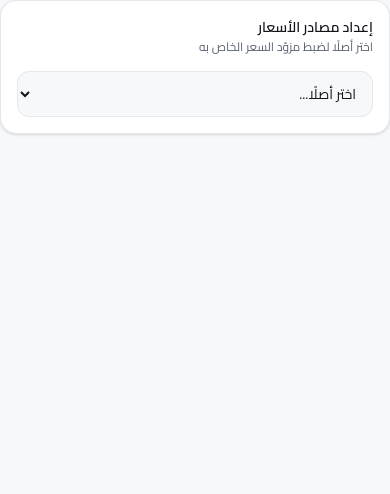
Test: PricingAdmin › reflects an already-configured provider when loaded
This screenshot has width=390, height=494.
Select "TMGH — Talaat (EGP)" in the dropdown. click: (195, 94)
box: left=17, top=71, right=373, bottom=117
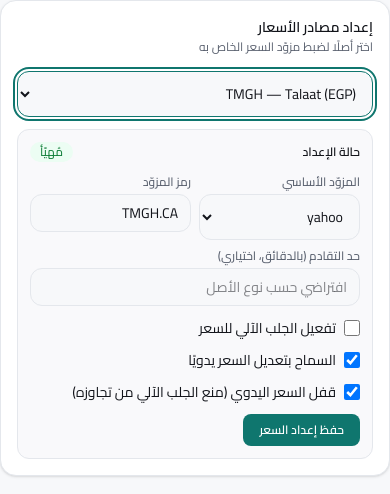
Now the text "مُهيّأ" is shown, box left=30, top=142, right=73, bottom=162
Now the field showing "TMGH.CA" is shown, box left=30, top=194, right=191, bottom=232
Now the checkbox labelled "قفل السعر اليدوي (منع الجلب الآلي من تجاوزه)" is checked, box left=344, top=384, right=360, bottom=400
